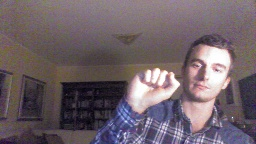Pugno: (123, 65, 181, 114)
